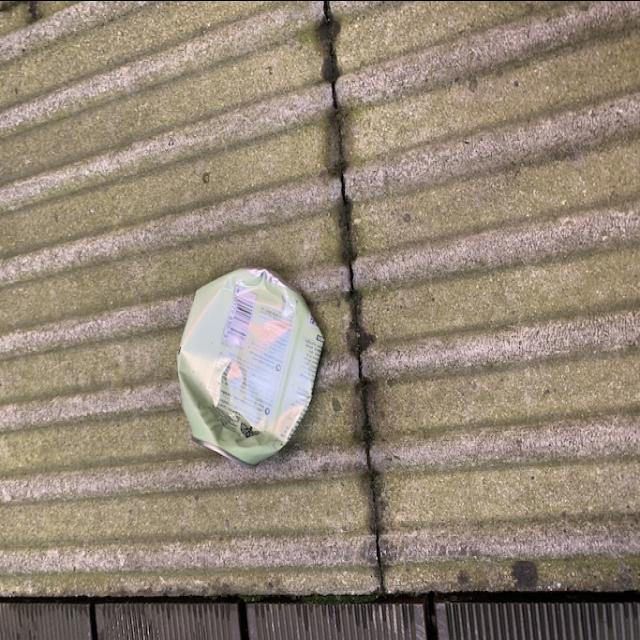litter: (175, 240, 329, 469)
